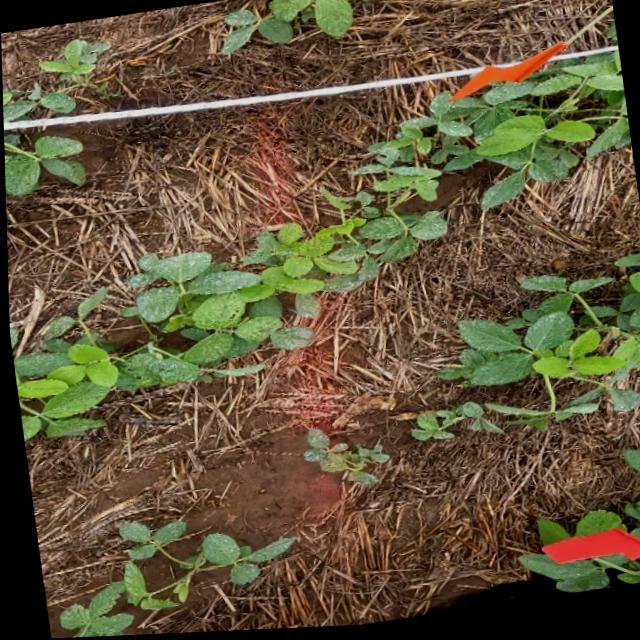soy_plant: (12, 56, 626, 438), (410, 257, 640, 443), (56, 522, 291, 638), (221, 0, 372, 55), (517, 556, 640, 597), (3, 132, 84, 194), (301, 430, 384, 486), (534, 513, 624, 549), (40, 39, 107, 86), (2, 84, 74, 120), (621, 502, 640, 545)
